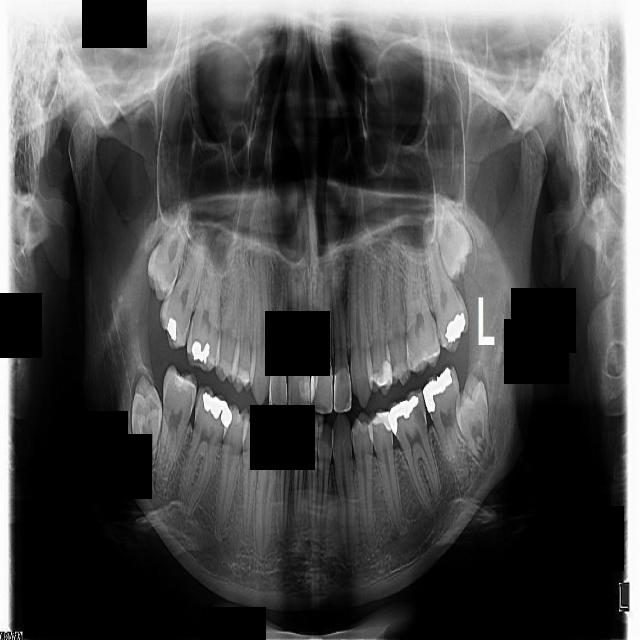NucleOSS Implant: (416, 360, 457, 413), (196, 386, 240, 427), (381, 390, 420, 435), (439, 309, 473, 347), (190, 340, 211, 364), (165, 316, 178, 342)
Sterngold Implant: (414, 394, 427, 433), (388, 351, 397, 372)
Straumann Implant: (287, 357, 312, 414), (311, 356, 332, 415), (369, 358, 403, 394), (332, 369, 351, 411), (269, 369, 287, 409), (369, 407, 396, 432), (166, 369, 191, 396), (299, 377, 311, 402)
